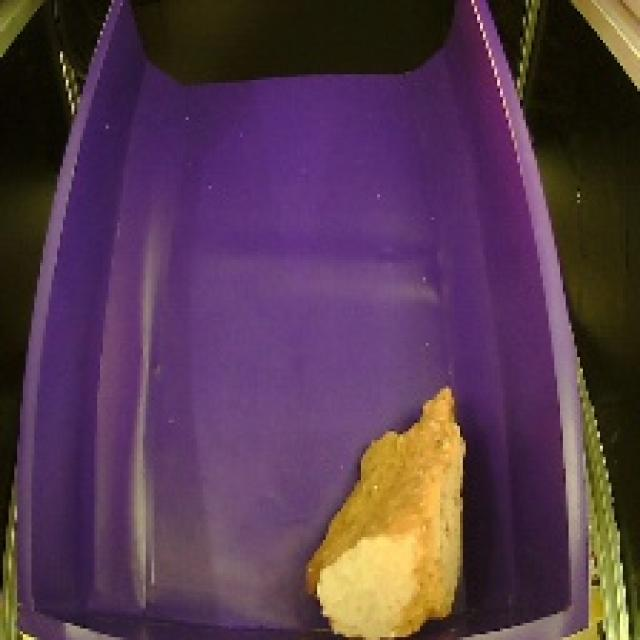brick: (297, 365, 471, 640)
